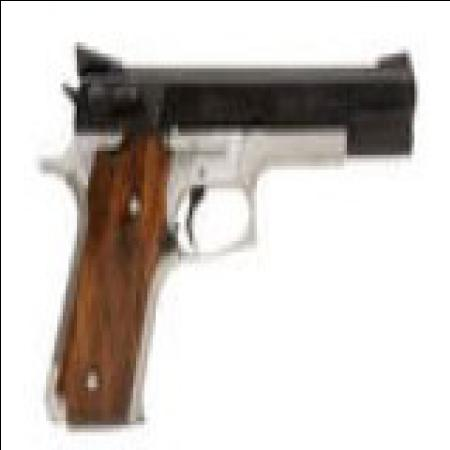Pistol: (36, 37, 422, 435)
